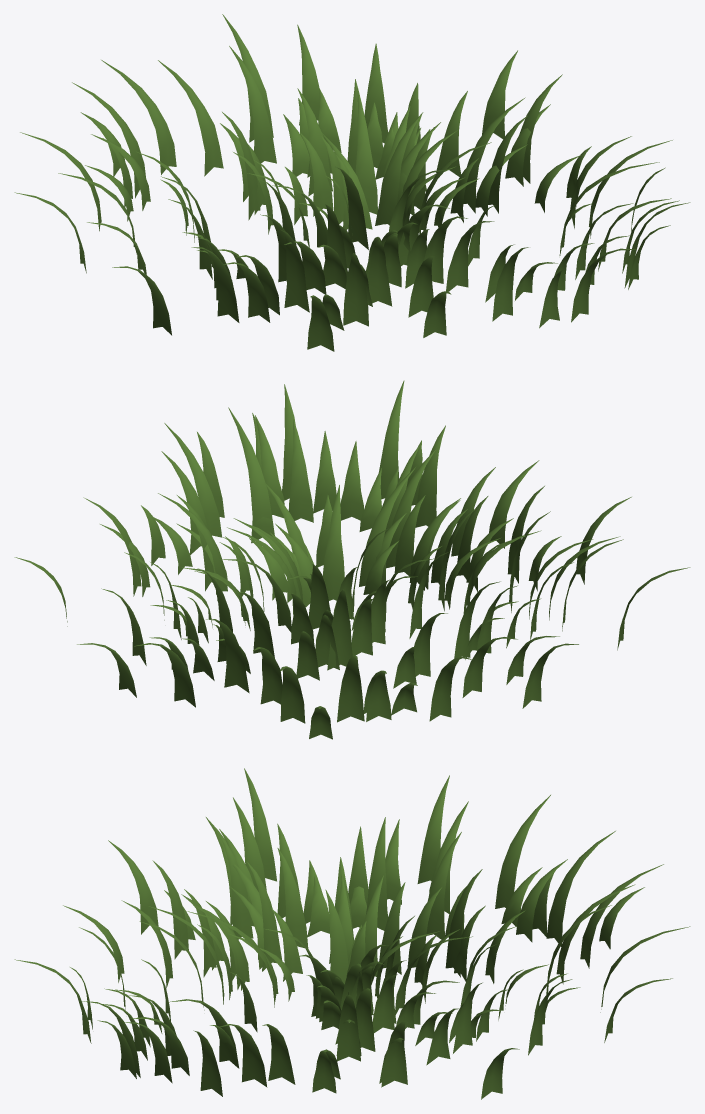
Rendered from Forest Carpet.glb.
The picture shows the model from 3 angles, top to bottom: view 1: azimuth 30°, elevation 25°; view 2: azimuth 150°, elevation 25°; view 3: azimuth 270°, elevation 25°; orthographic projection. The views are drawn at different scales.
Parts seen in each view (by area): view 1: Forest Carpet; view 2: Forest Carpet; view 3: Forest Carpet.
Part boxes in pixels (left/top/right/bottom): Forest Carpet: left=14, top=14, right=690, bottom=351; Forest Carpet: left=14, top=380, right=690, bottom=739; Forest Carpet: left=14, top=768, right=690, bottom=1099.
Size of the model in its own units: 1.09 by 0.1851 by 1.19.
